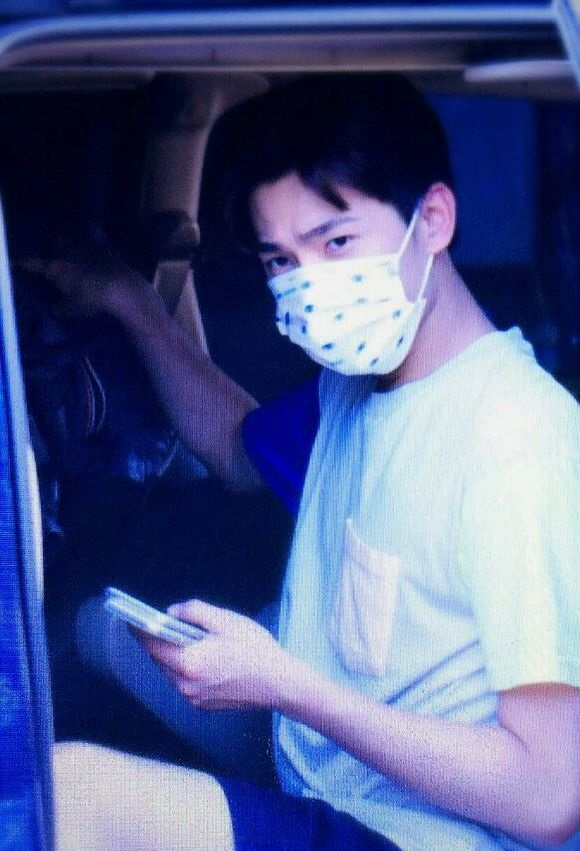face_mask: (264, 158, 421, 372)
